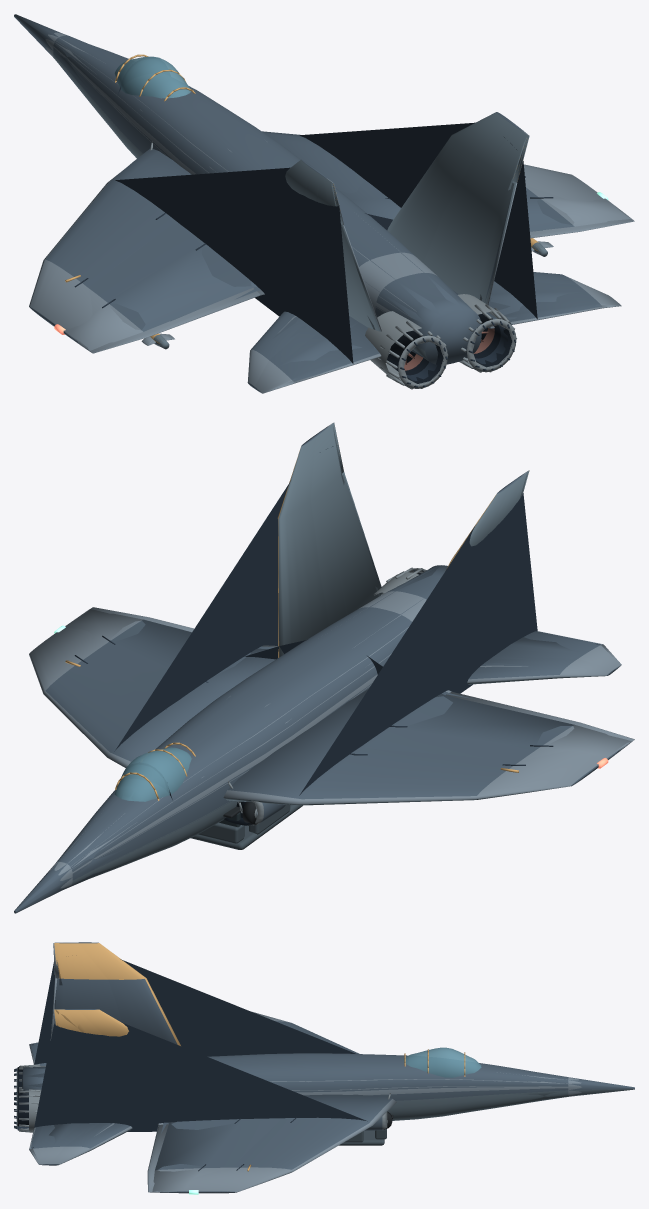
Rendered from hornet.glb.
3 renders of one model, top to bottom at view 1: azimuth 30°, elevation 25°; view 2: azimuth 150°, elevation 25°; view 3: azimuth 270°, elevation 25°, orthographic. The views are drawn at different scales.
Visible parts, largest first — view 1: Airframe shell mesh, Port wing, Airframe shell.002 mesh, Airframe shell.001 mesh, Starboard wing, Aft nacelles, Central fuselage, Canopy glass, Hinged Aileron, Canopy glass.001, Hinged Aileron.001; view 2: Airframe shell mesh, Port wing, Airframe shell.002 mesh, Airframe shell.001 mesh, Starboard wing, Aft nacelles, Central fuselage, Canopy glass, Cockpit shell mesh, Canopy glass.001, Forward fuselage, Hinged Aileron; view 3: Airframe shell mesh, Starboard wing, Port wing, Aft nacelles, Airframe shell.002 mesh, Airframe shell.001 mesh, Central fuselage, Canopy glass, Canopy glass.001, Forward fuselage, Cockpit shell mesh, Hinged Aileron.001.
Boxes of the visible parts, x1,y1,x2,y2 form: Airframe shell mesh: (14, 14, 612, 390); Port wing: (72, 159, 353, 390); Airframe shell.002 mesh: (14, 14, 631, 391); Airframe shell.001 mesh: (14, 15, 632, 392); Starboard wing: (299, 112, 632, 319); Aft nacelles: (249, 141, 537, 386); Central fuselage: (115, 57, 400, 230); Canopy glass: (114, 56, 190, 98); Hinged Aileron: (77, 288, 260, 353); Canopy glass.001: (115, 57, 188, 97); Hinged Aileron.001: (530, 220, 634, 238); Airframe shell mesh: (14, 437, 618, 913); Port wing: (299, 471, 632, 799); Airframe shell.002 mesh: (14, 427, 631, 912); Airframe shell.001 mesh: (14, 423, 629, 913); Starboard wing: (72, 424, 337, 751); Aft nacelles: (245, 459, 537, 700); Central fuselage: (126, 639, 382, 841); Canopy glass: (115, 747, 191, 801); Cockpit shell mesh: (190, 781, 302, 849); Canopy glass.001: (116, 749, 190, 801); Forward fuselage: (15, 763, 175, 911); Hinged Aileron: (445, 692, 634, 750); Airframe shell mesh: (14, 942, 634, 1194); Starboard wing: (30, 1009, 367, 1191); Port wing: (30, 942, 355, 1064); Aft nacelles: (16, 962, 181, 1130); Airframe shell.002 mesh: (16, 943, 634, 1193); Airframe shell.001 mesh: (16, 943, 581, 1193); Central fuselage: (241, 1047, 453, 1130); Canopy glass: (403, 1047, 480, 1077); Canopy glass.001: (406, 1047, 479, 1077); Forward fuselage: (453, 1050, 634, 1105); Cockpit shell mesh: (339, 1093, 393, 1145); Hinged Aileron.001: (147, 1124, 168, 1192).
Size of the model in its own units: 12.44 by 4.79 by 17.5.
